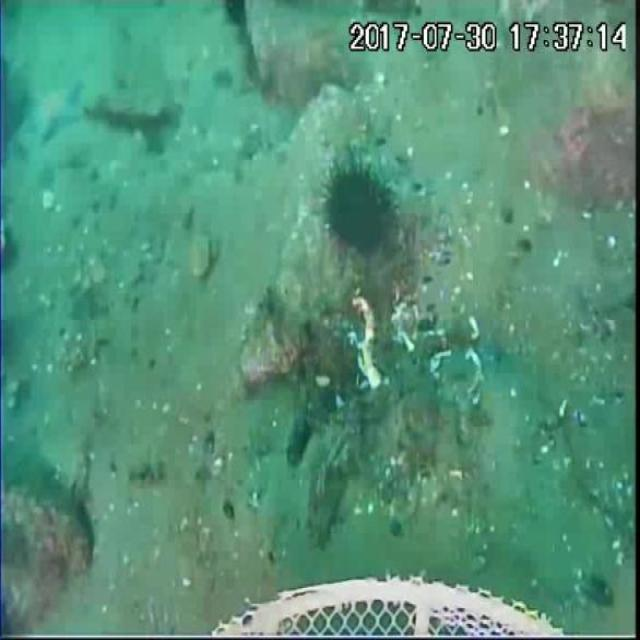echinus: (323, 162, 398, 262)
starfish: (31, 79, 84, 144)
